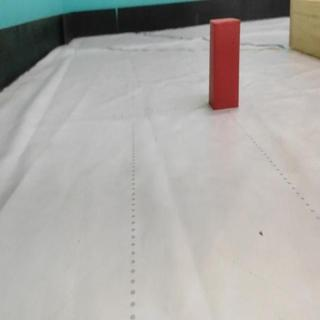redbox: (207, 16, 241, 110)
